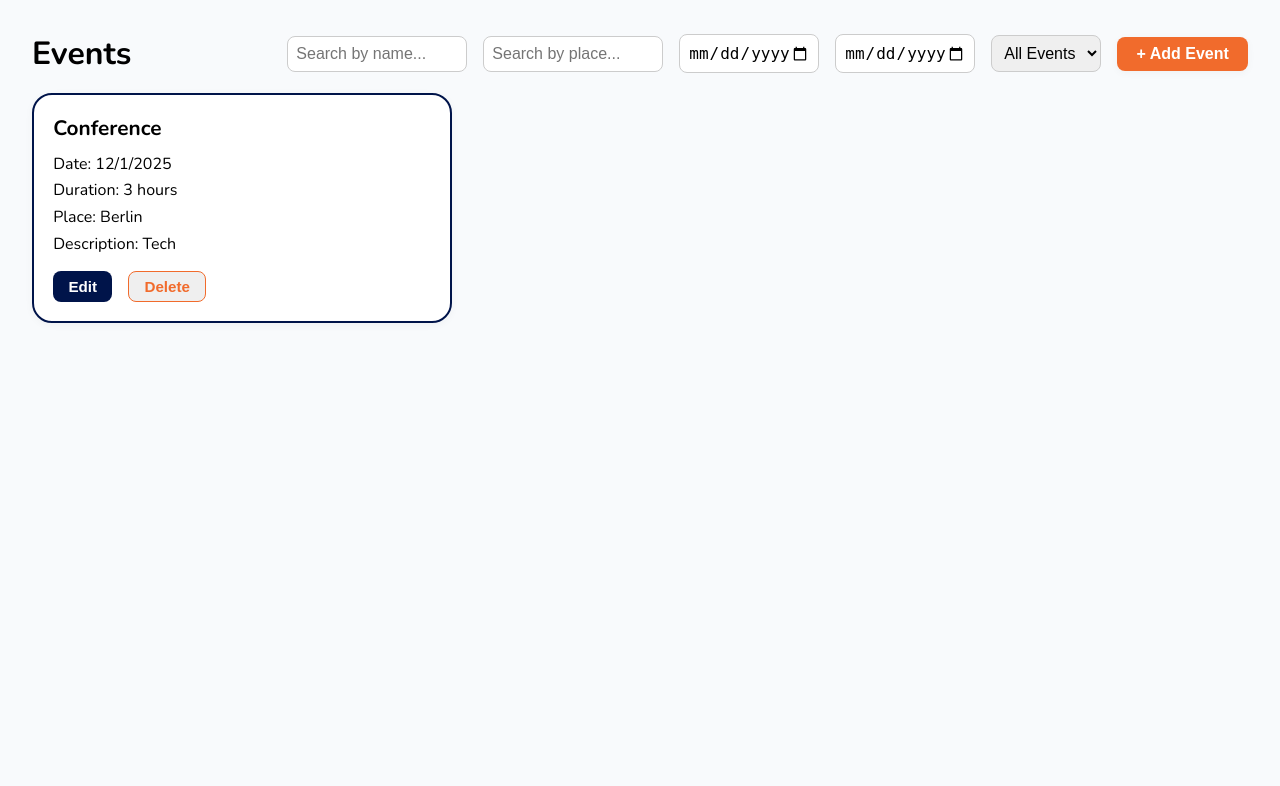
Scenario: EventsHome Component - Unit Tests › Edit Event Functionality › should open edit modal with existing event data
The image size is (1280, 786).
expect the heading "Conference" is shown: met, box left=53, top=114, right=162, bottom=142
// Click edit button
Click the button "Edit" at (83, 287), box left=53, top=271, right=112, bottom=302
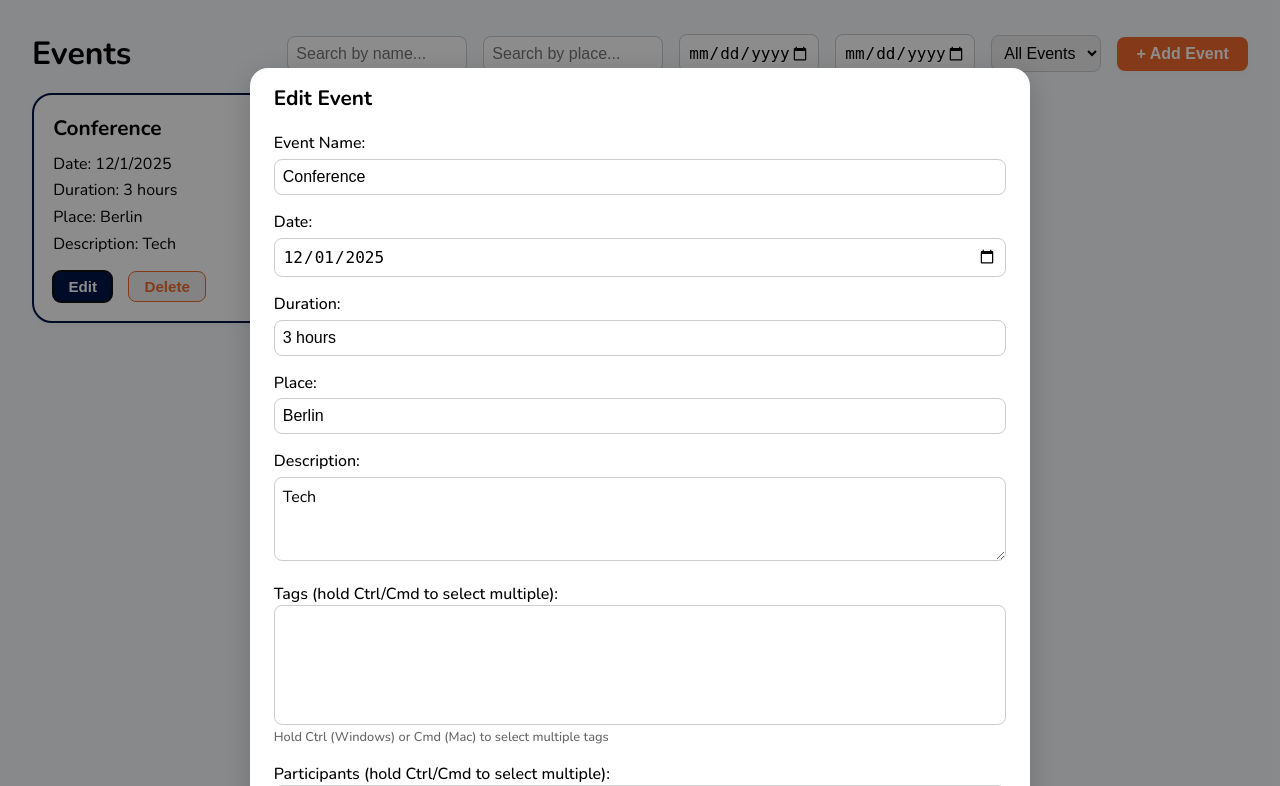
expect the heading "Edit Event" is shown: met, box left=274, top=84, right=372, bottom=112
expect the field labelled "Event Name:" holds "Conference": met, box left=274, top=159, right=1006, bottom=195
expect the date field labelled "Date:" holds "2025-12-01": met, box left=274, top=238, right=1006, bottom=277
